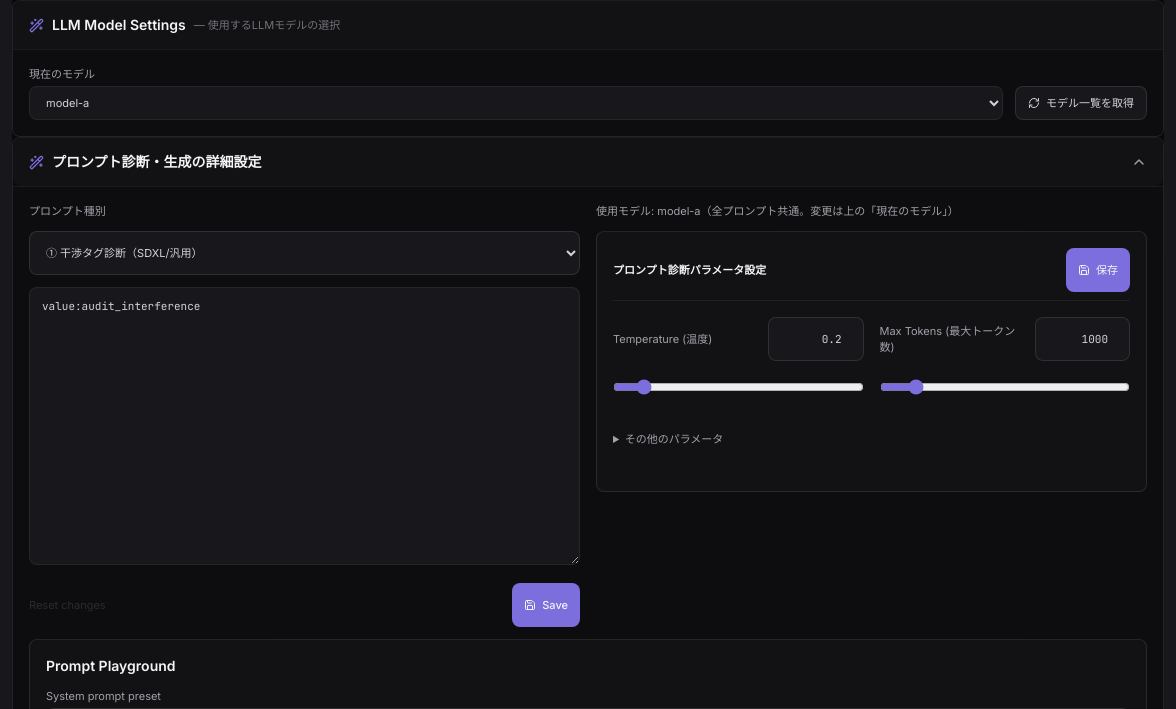
Test: LlmSettingsSection grouped contracts › unified prompt editor › [REQ-365/AC-5] switches the prompt body textarea immediately when the type selector changes
Expected: the heading "プロンプト診断パラメータ設定" is shown, [613,262,766,278]
Expected: the text box holds "value:audit_interference", [29,287,580,565]
Select "⑤ Scene Generator プロンプト" in the dropdown labelled "プロンプト種別" at coordinates (304, 253), box [29,231,580,275]
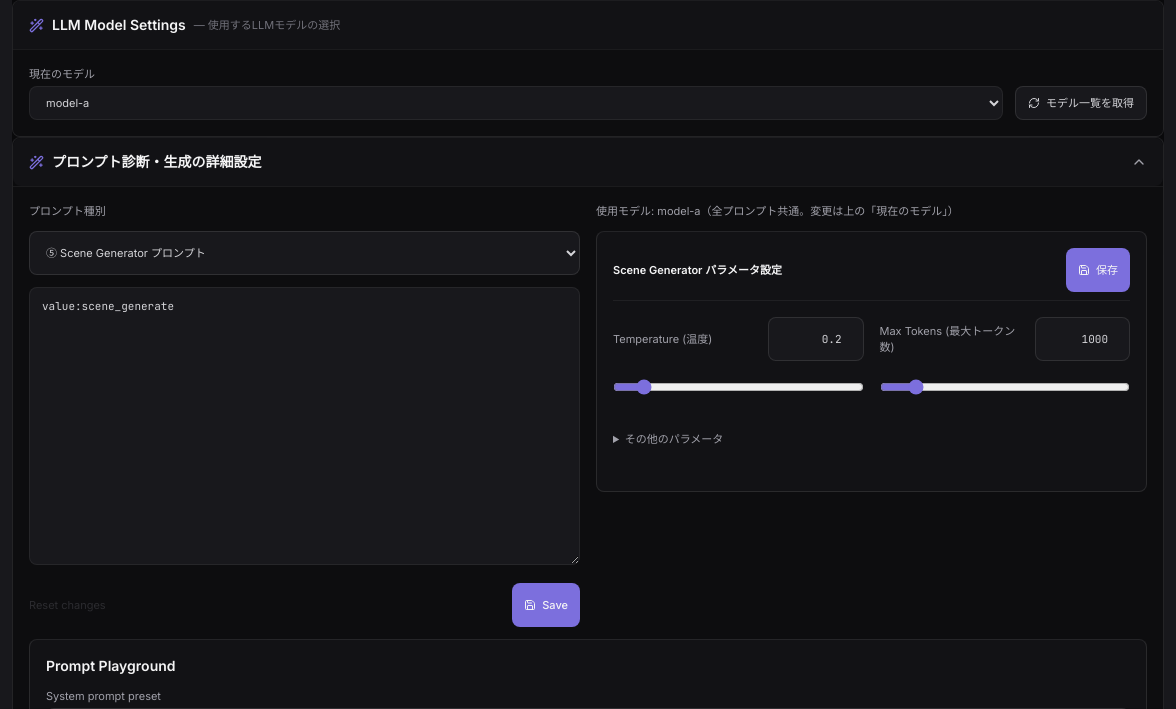
Expected: the button "Save" is shown, [512,583,580,627]
Expected: the text box holds "value:scene_generate", [29,287,580,565]
